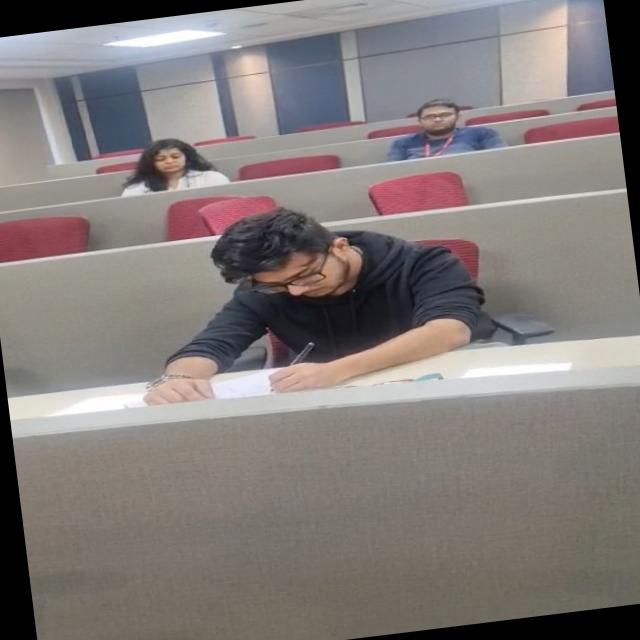cheating: (108, 194, 494, 422)
